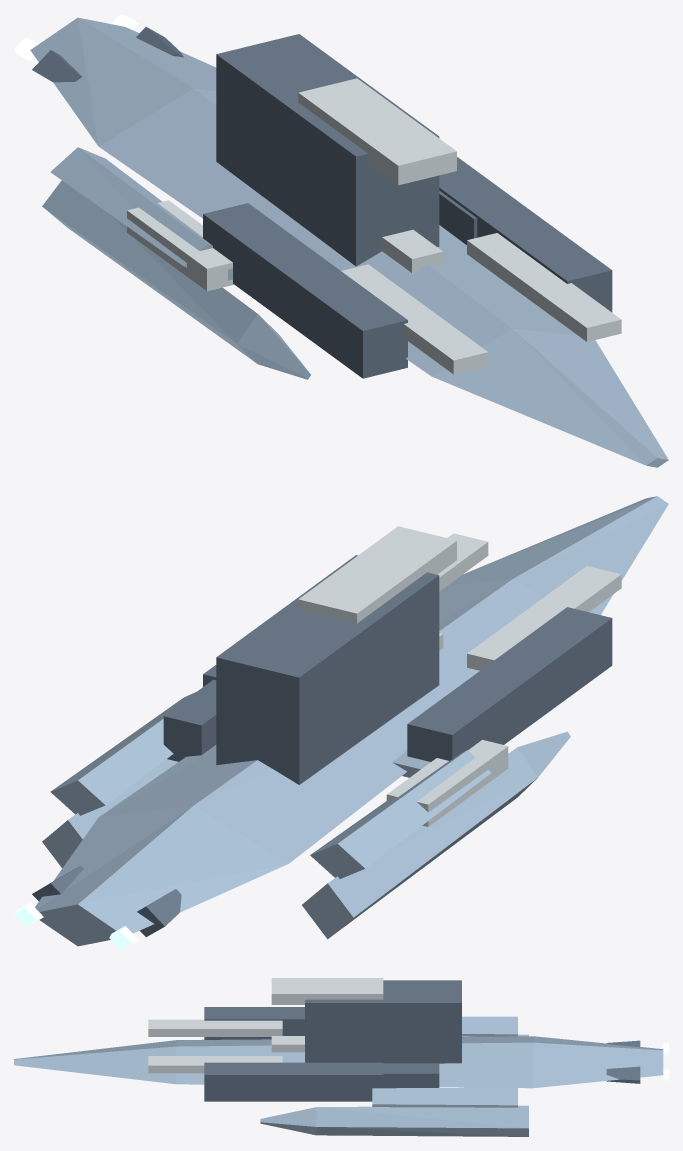
3 views of the same model, one above another, from view 1: azimuth 30°, elevation 25°; view 2: azimuth 150°, elevation 25°; view 3: azimuth 270°, elevation 25° (orthographic). The views are drawn at different scales.
Bounding box in the file's own units: 4.19 × 2.62 × 13.45.
